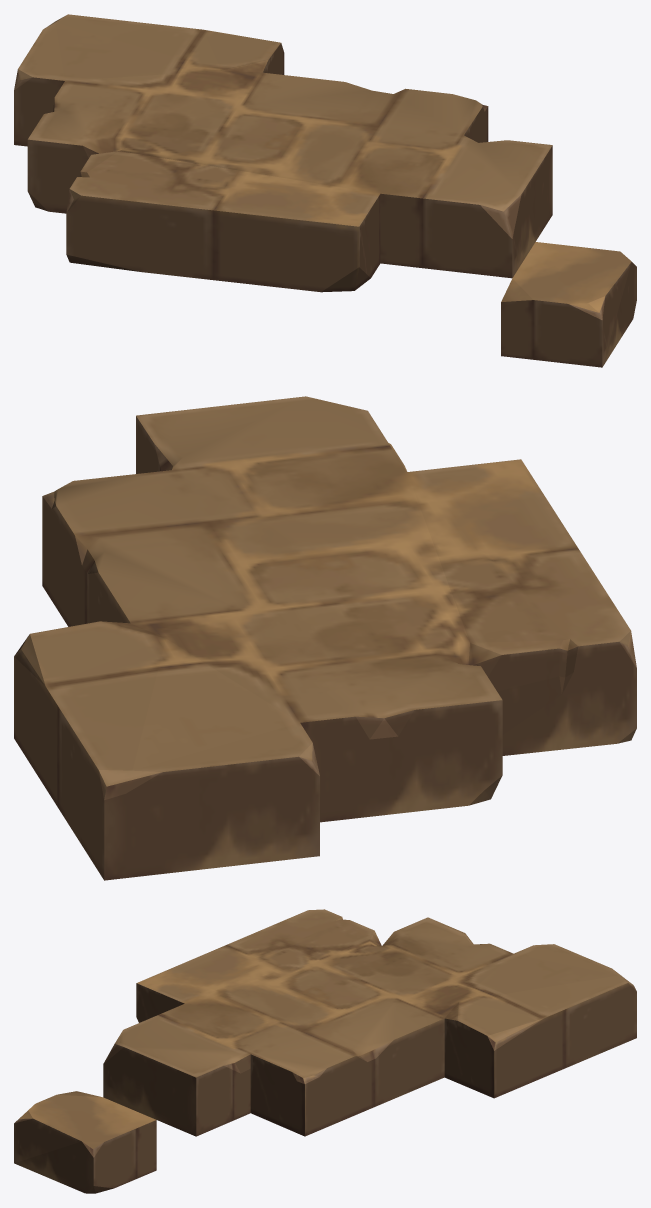
File: yw_shamo_zhuanlu_001.FBX
The picture shows the model from 3 angles, top to bottom: view 1: azimuth 30°, elevation 25°; view 2: azimuth 150°, elevation 25°; view 3: azimuth 270°, elevation 25°; orthographic projection. The views are drawn at different scales.
Parts seen in each view (by area): view 1: yw_shamo_zhuanlu_001; view 2: yw_shamo_zhuanlu_001; view 3: yw_shamo_zhuanlu_001.
Boxes of the visible parts, left/top/right/bottom form: yw_shamo_zhuanlu_001: left=14, top=14, right=636, bottom=367; yw_shamo_zhuanlu_001: left=14, top=396, right=636, bottom=880; yw_shamo_zhuanlu_001: left=14, top=909, right=636, bottom=1193.
Size of the model in its own units: 7430 by 10800 by 2159.
